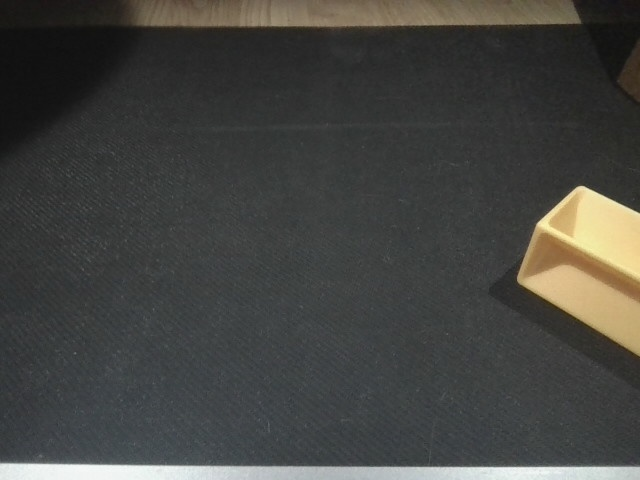YellowSample: (514, 182, 640, 360)
